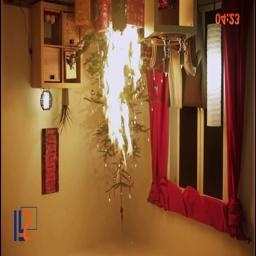fire: (93, 24, 152, 165)
